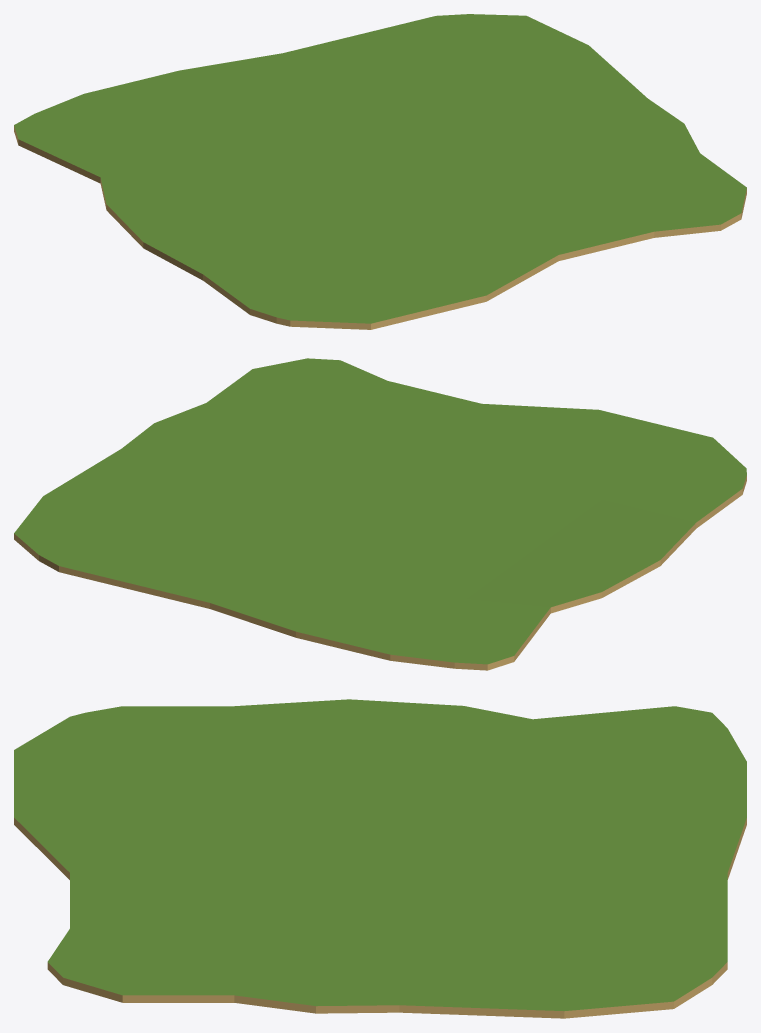
File: ISLAN.fbx
3 views of the same model, one above another, from view 1: azimuth 30°, elevation 25°; view 2: azimuth 150°, elevation 25°; view 3: azimuth 270°, elevation 25° (orthographic). The views are drawn at different scales.
Parts seen in each view (by area): view 1: Cube; view 2: Cube; view 3: Cube.
Part boxes in pixels (x1,y1,x2,y2): Cube: (14,14,746,329); Cube: (14,358,746,670); Cube: (14,699,746,1018).
Size of the model in its own units: 17949 by 201 by 17831.
